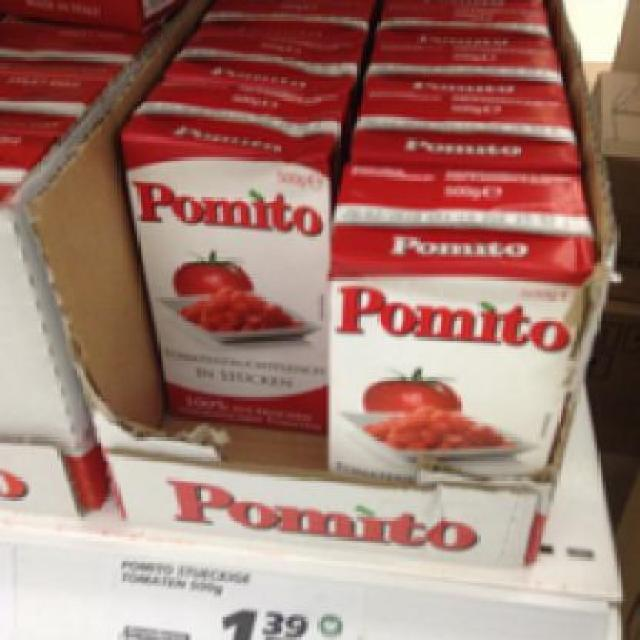Tomato Sauce: (326, 160, 591, 489), (117, 77, 337, 434)
